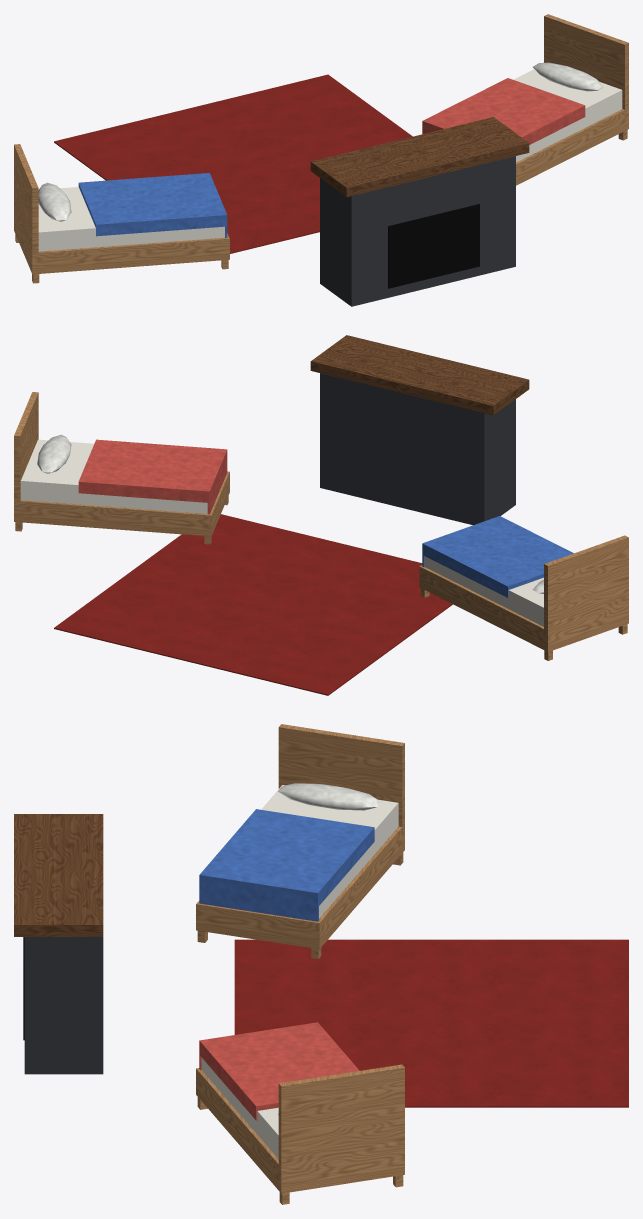
File: i_mongol_yurt.gltf
3 renders of one model, top to bottom at view 1: azimuth 30°, elevation 25°; view 2: azimuth 150°, elevation 25°; view 3: azimuth 270°, elevation 25°, orthographic. The views are drawn at different scales.
Parts seen in each view (by area): view 1: I_mongol_yurt; view 2: I_mongol_yurt; view 3: I_mongol_yurt.
Part boxes in pixels (<box>): I_mongol_yurt: <box>14,14,628,306</box>; I_mongol_yurt: <box>14,335,628,695</box>; I_mongol_yurt: <box>14,724,628,1204</box>.
Size of the model in its own units: 6.53 by 1.3 by 4.68.
10 materials, 6 textured.
